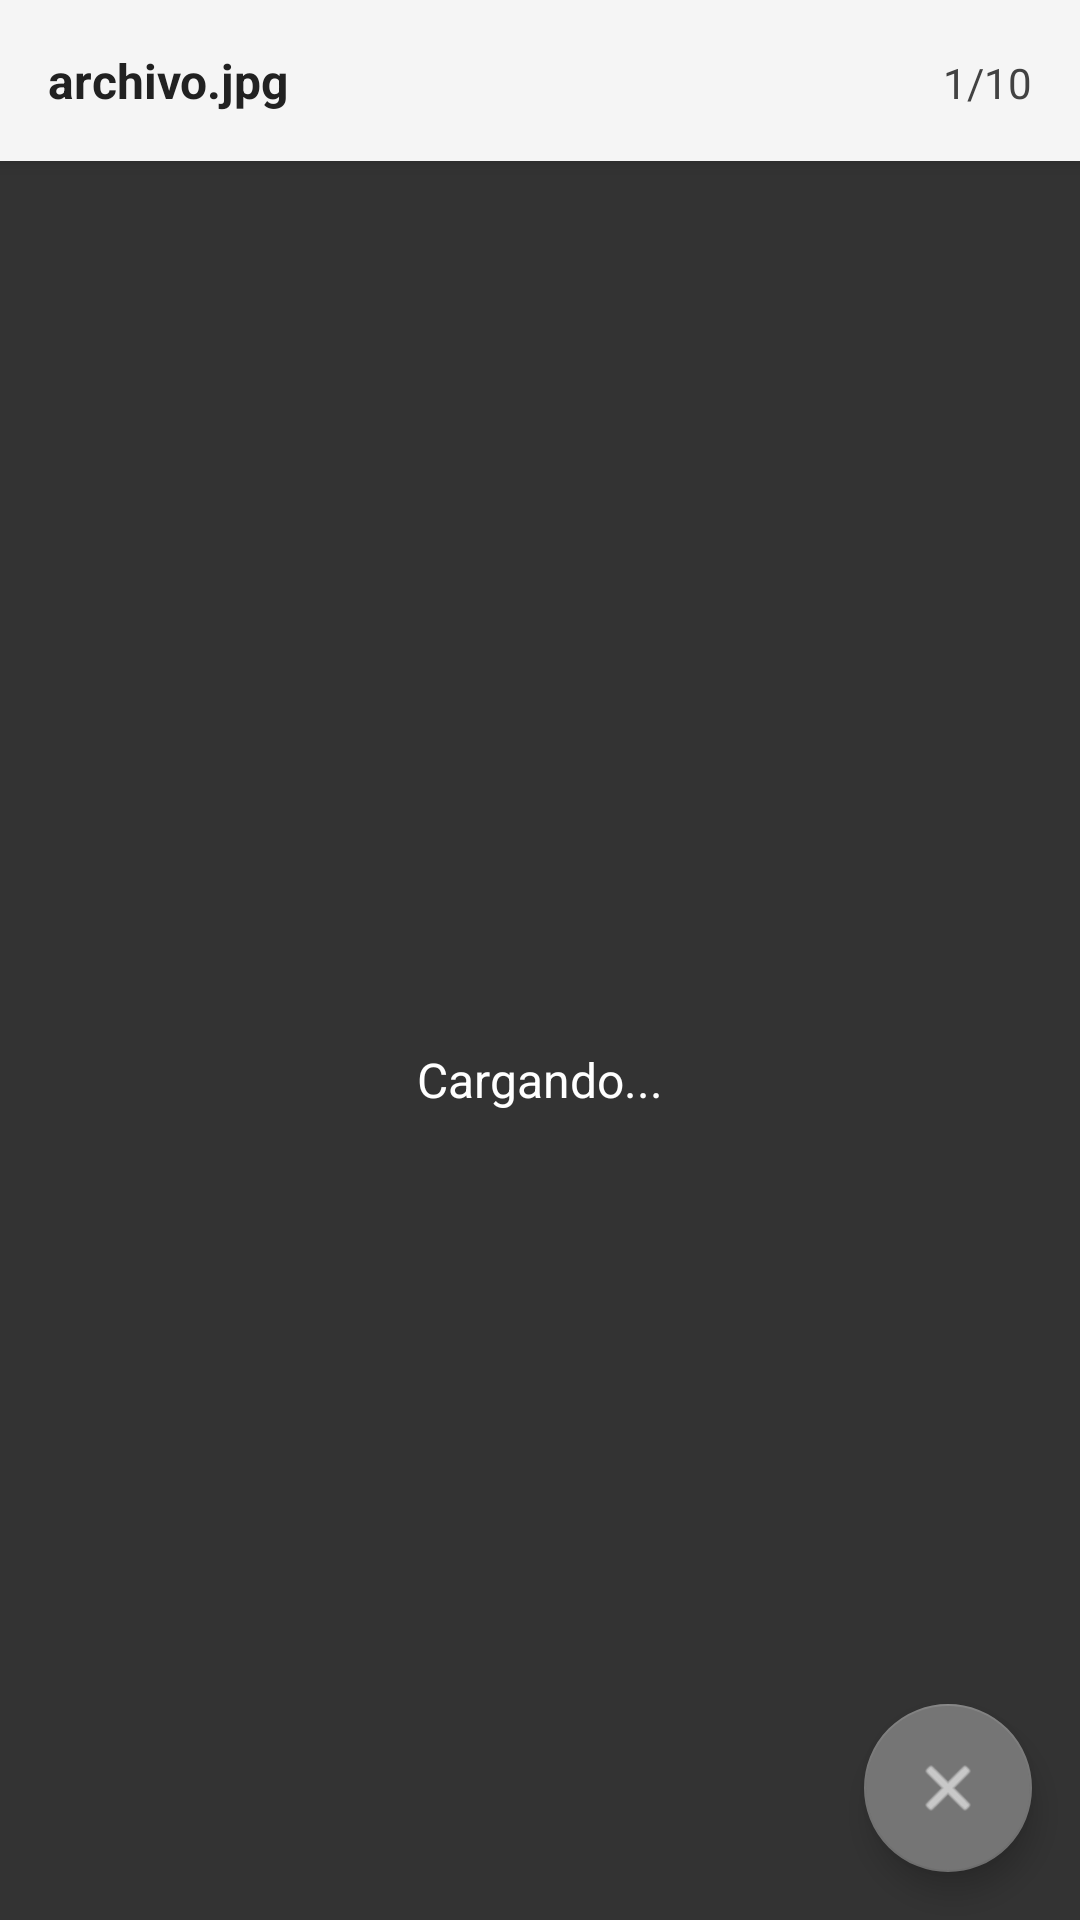

Screen size 1080 × 1920. Icon name, then its box in pixels as detection(x1, y1, x2, y2):
Cerrar: detection(864, 1704, 1032, 1872)
